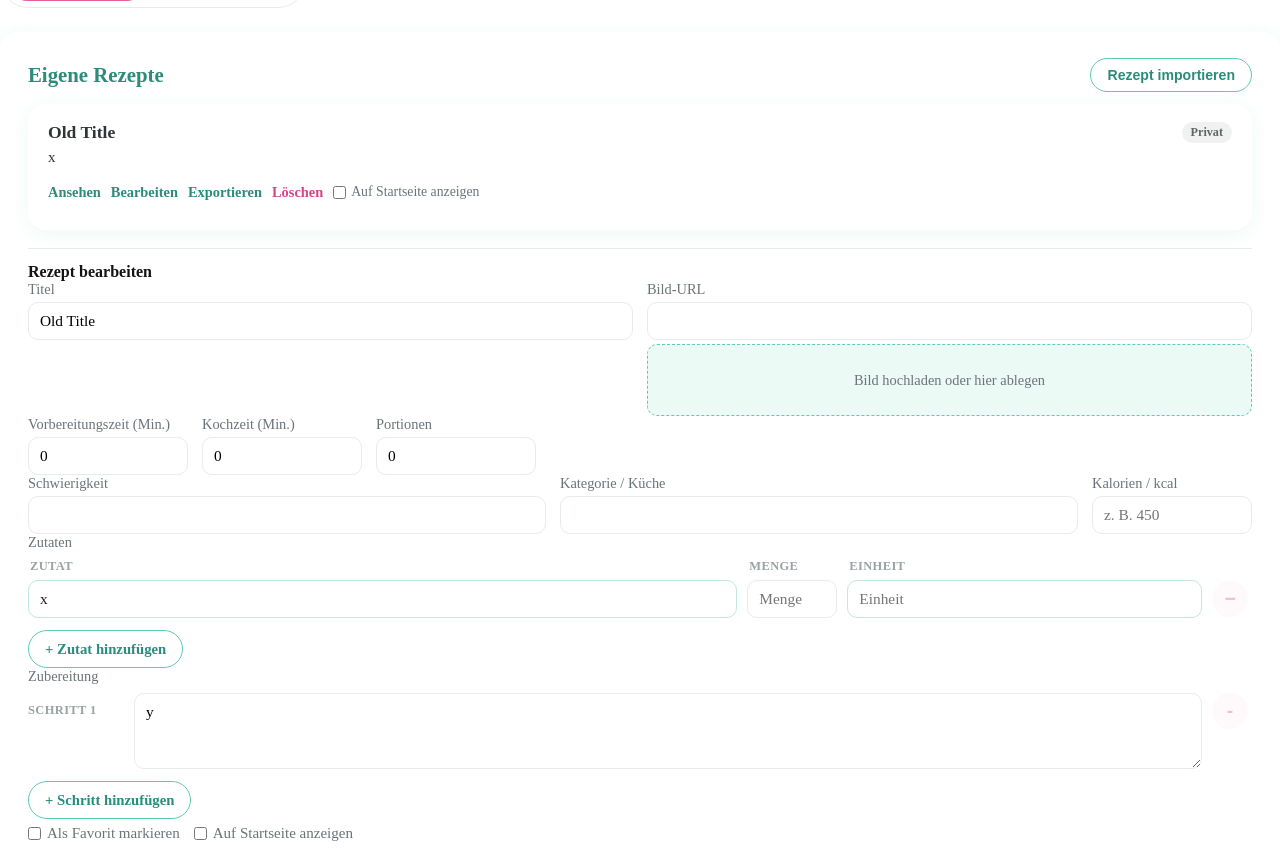
Test case: RecipeList.vue › updates a recipe via edit panel
# Titel im Edit-Panel anpassen
Replace the text in the field below "Titel" with "Updated Title": (330, 321) [28,302,633,340]
(page scrolled)
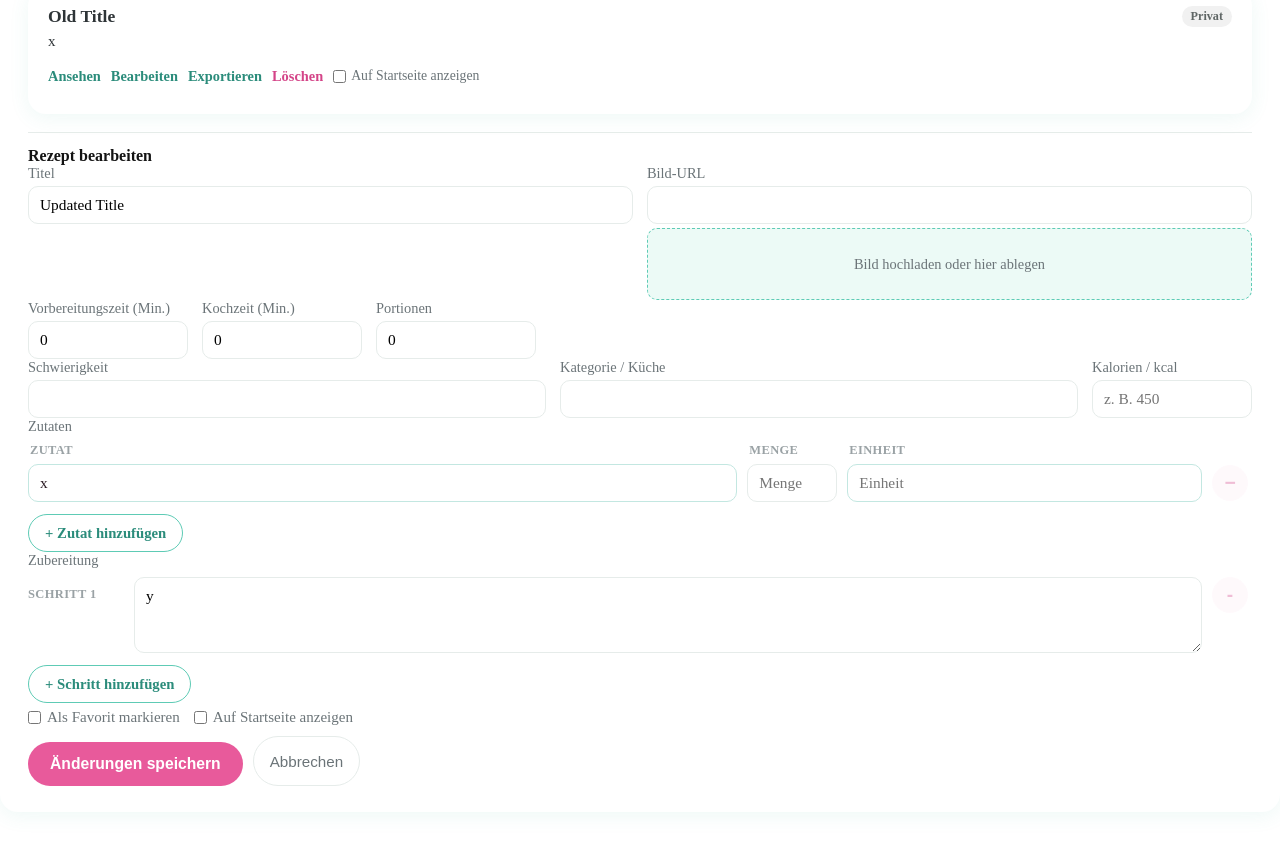
# Speichern-Button klicken
Click the button with class "submit-btn": (135, 764) [28,742,243,786]
(page scrolled)
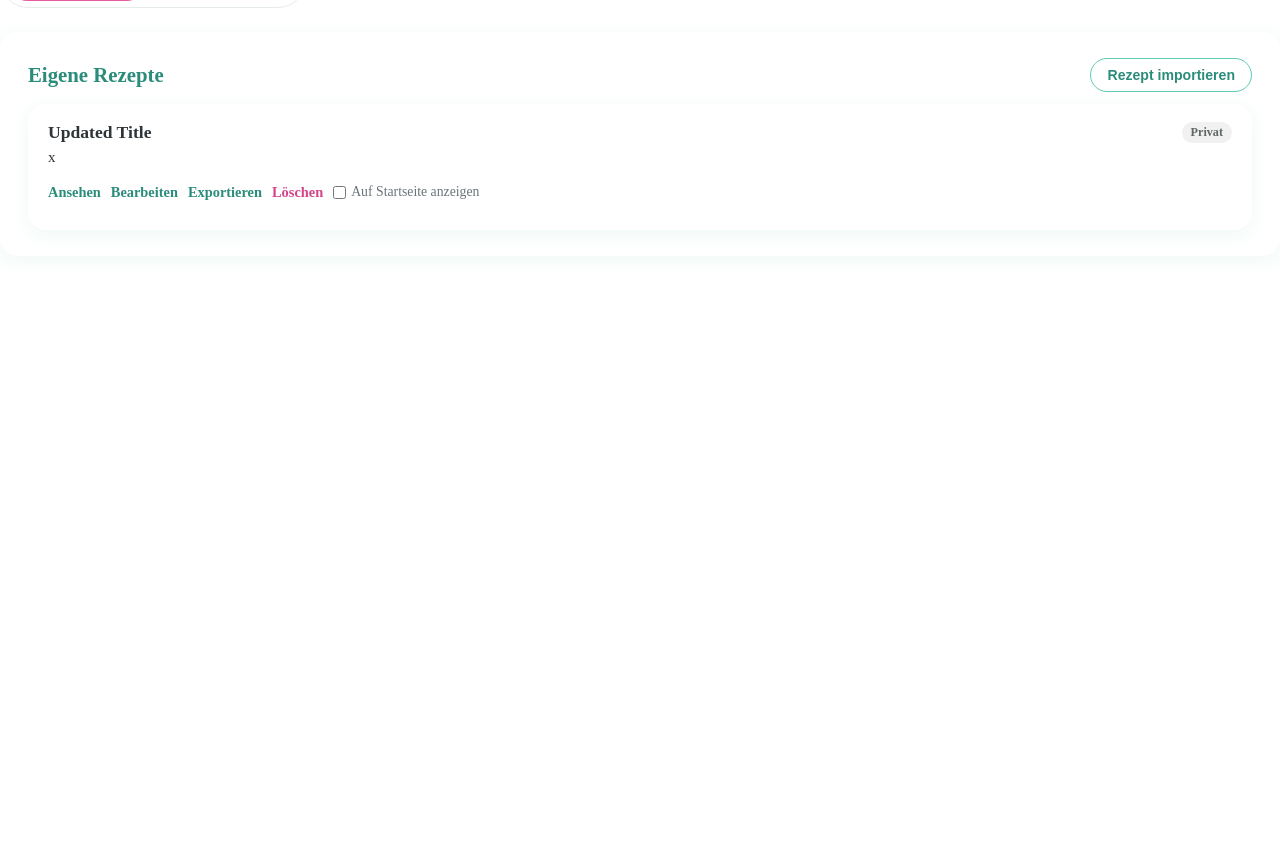
Expected: the text "Updated Title" is shown, [48,122,152,143]
